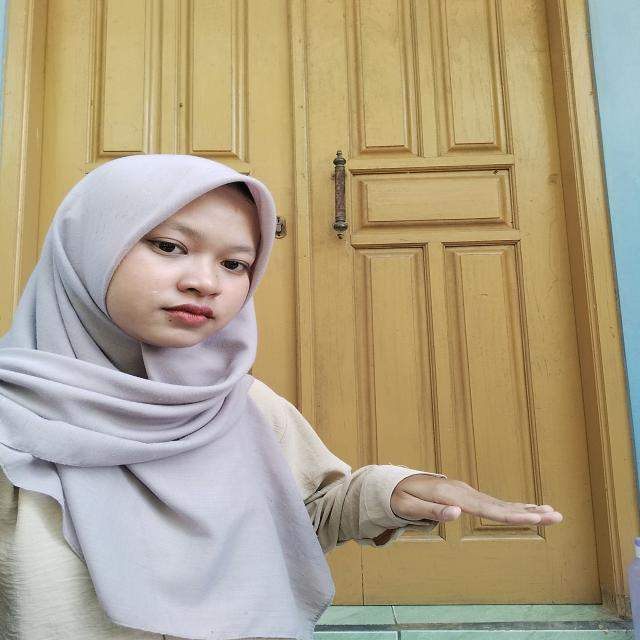adik: (365, 455, 574, 544)
